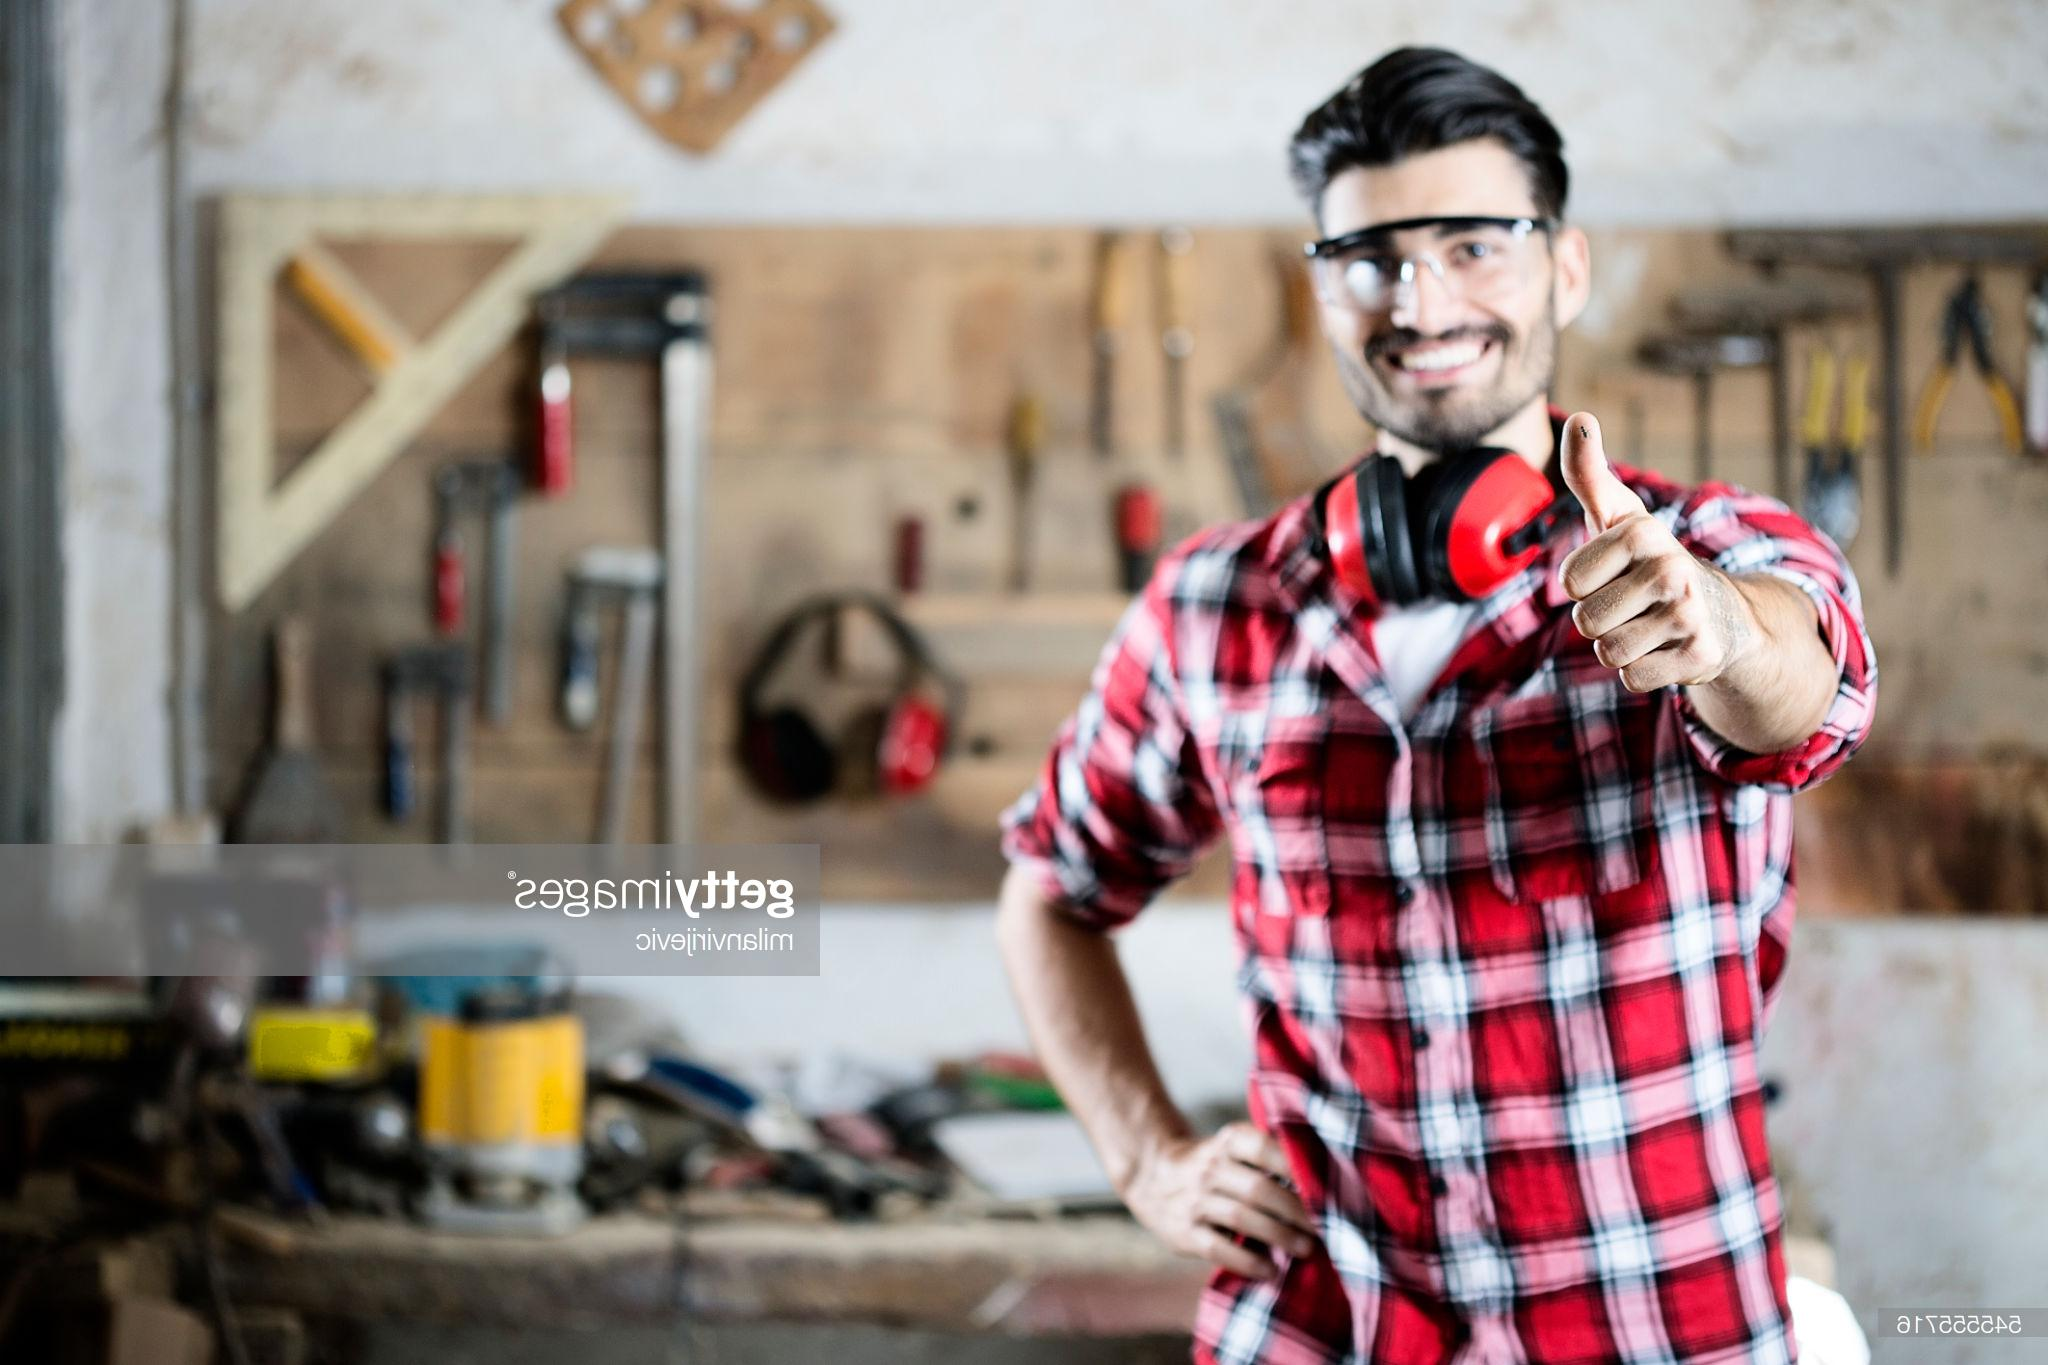thumbsup: (1561, 411, 1716, 695)
